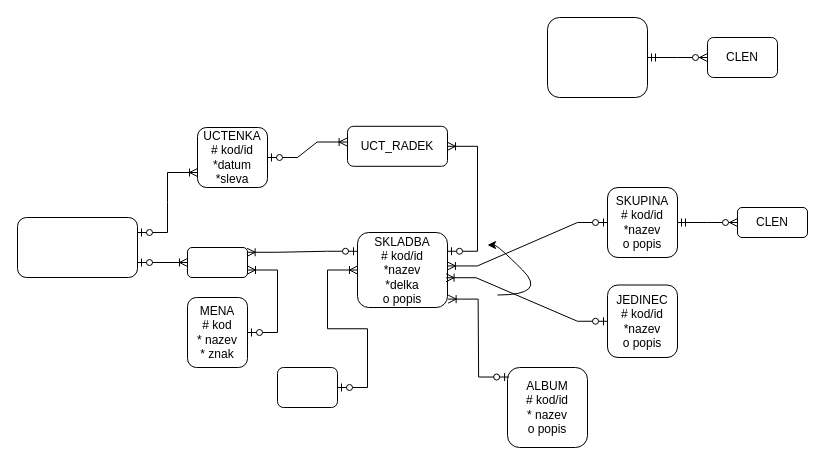
Some shapes in this 825 by 465 pixel diagram are drawn without their labels. Here are the shapes that lost their labels. From the top down, the box of each, then its label:
(546, 16, 648, 98): AUTOR # kod/id *nazev *typ o popis
(16, 216, 138, 278): AUDIOTEKA # kod/id *nazev
(186, 246, 248, 278): CENA
(276, 366, 338, 408): ZANR
